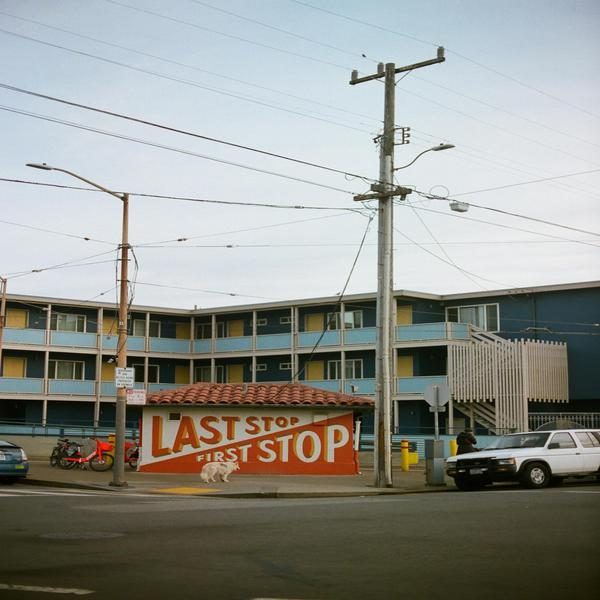utility_pole: (333, 38, 464, 215), (101, 175, 148, 271)
